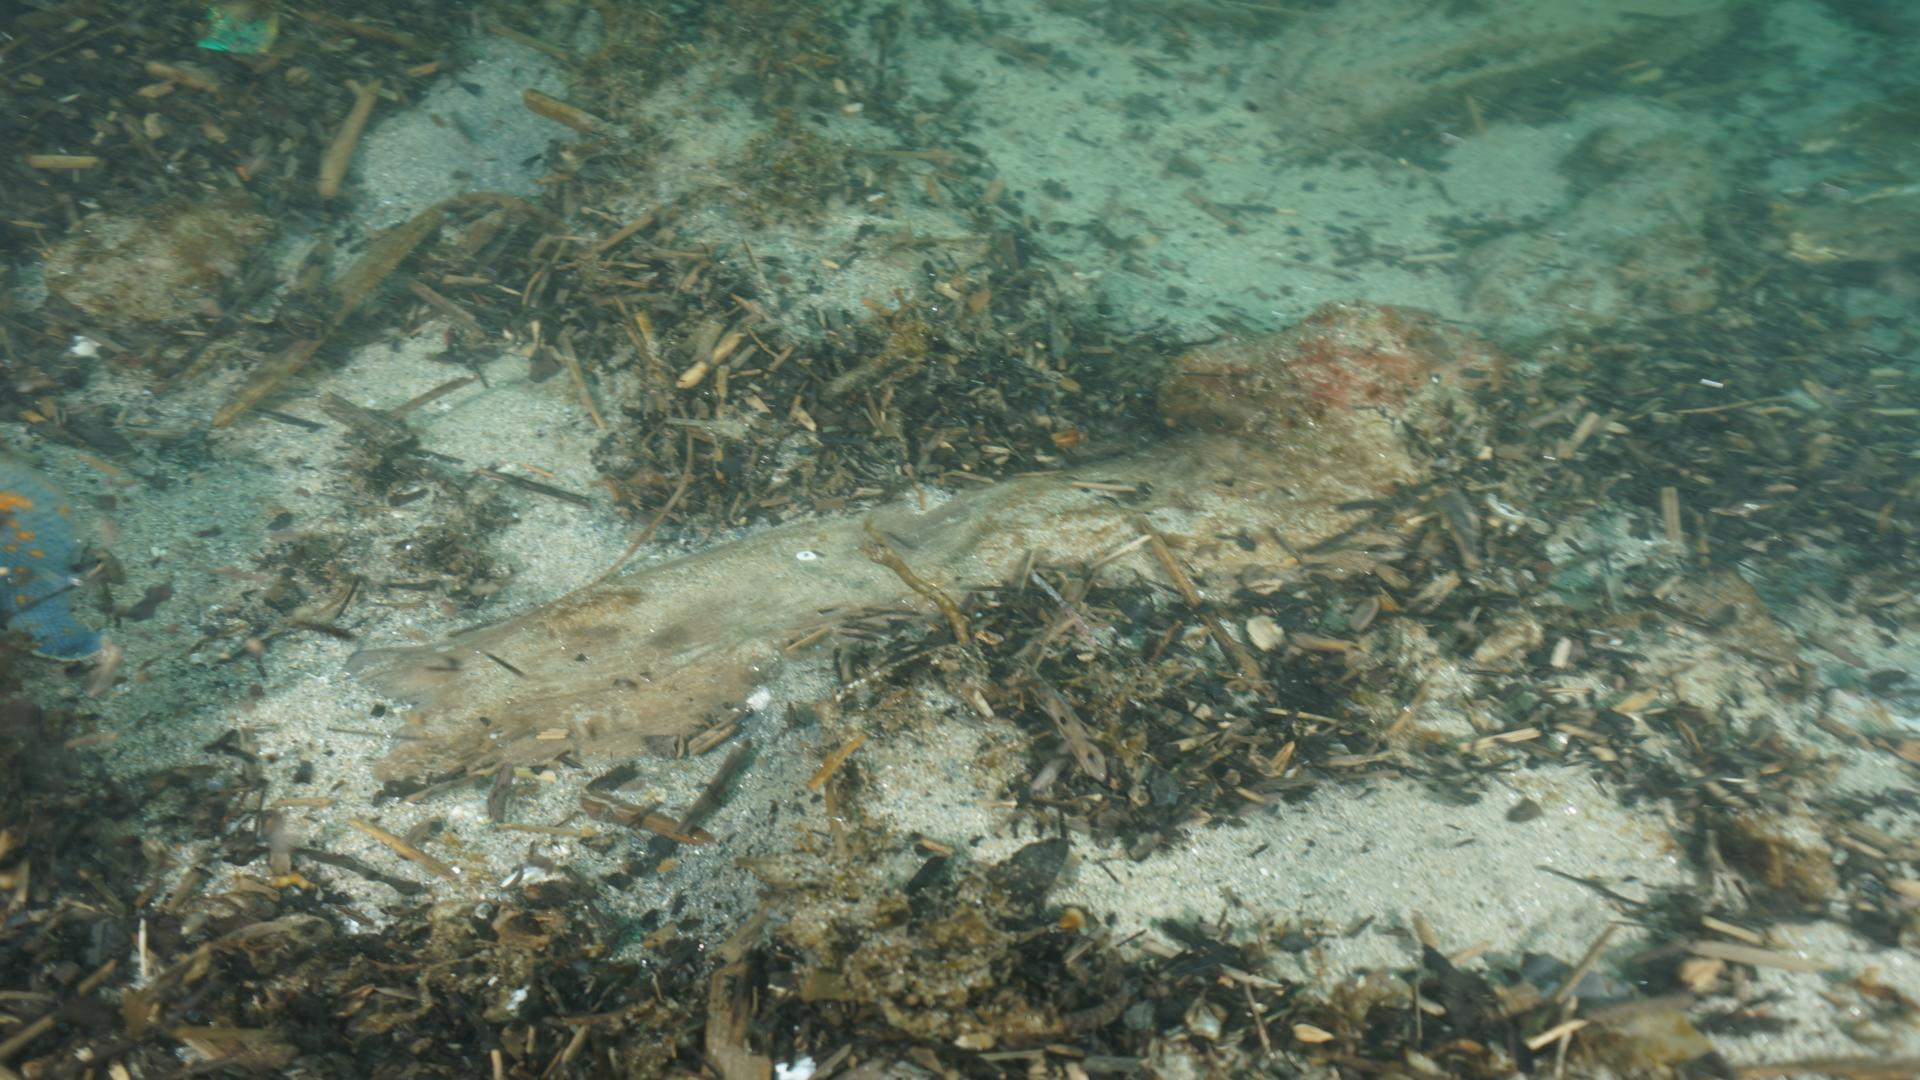wood: (368, 400, 1420, 791)
